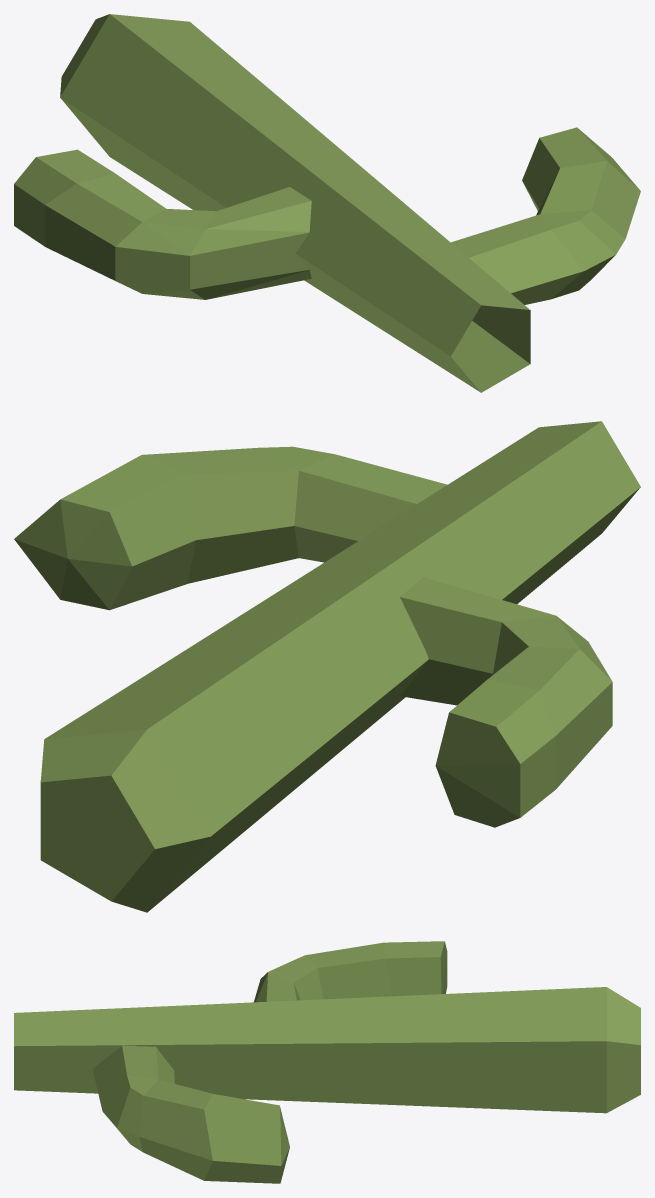
File: SM_Cactus_04.fbx
3 views of the same model, one above another, from view 1: azimuth 30°, elevation 25°; view 2: azimuth 150°, elevation 25°; view 3: azimuth 270°, elevation 25° (orthographic). The views are drawn at different scales.
Parts seen in each view (by area): view 1: SM_Cactus_04; view 2: SM_Cactus_04; view 3: SM_Cactus_04.
Boxes of the visible parts, x1,y1,x2,y2 form: SM_Cactus_04: (14, 14, 640, 392); SM_Cactus_04: (14, 421, 640, 912); SM_Cactus_04: (14, 941, 640, 1183).
Size of the model in its own units: 37 by 10.18 by 49.58.
